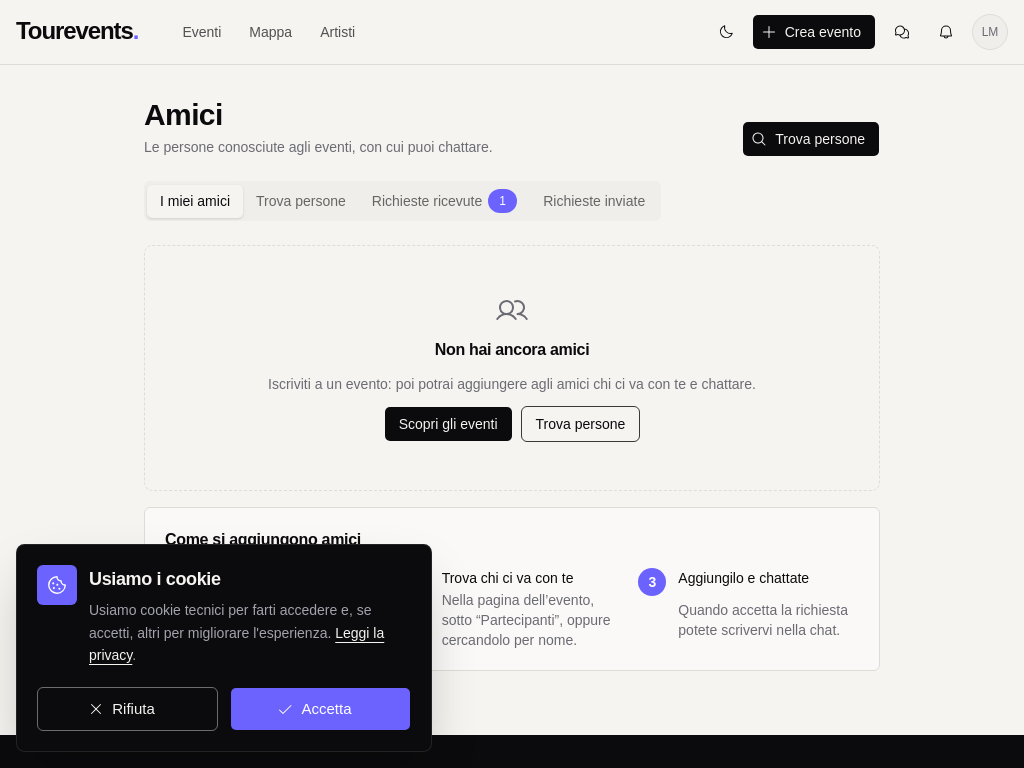
Test case: FriendsPage: richieste › la scheda sta nell’URL e il badge conta le richieste in attesa
The image size is (1024, 768).
Expected: the icon named "1 richiesta in attesa" is shown, x1=488 y1=189 x2=517 y2=213
Click the tab "Richieste ricevute 1". click: [445, 201]
box: x1=359 y1=184 x2=530 y2=218
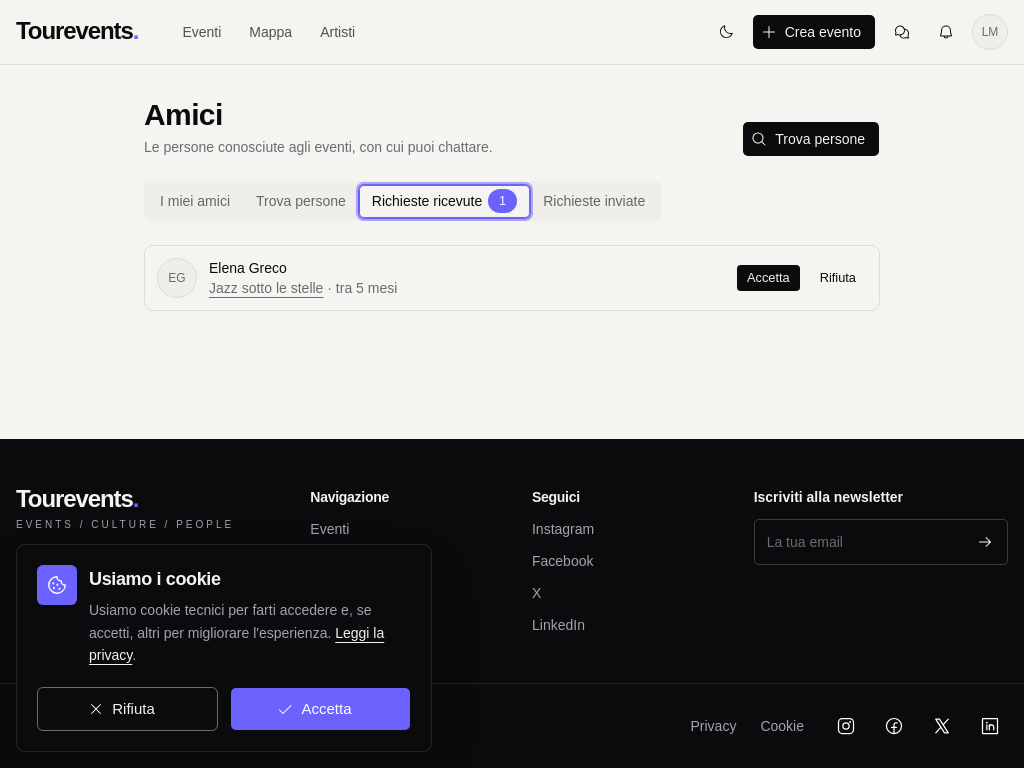
Expected: the link "Elena Greco" is shown, x1=209 y1=260 x2=287 y2=276
